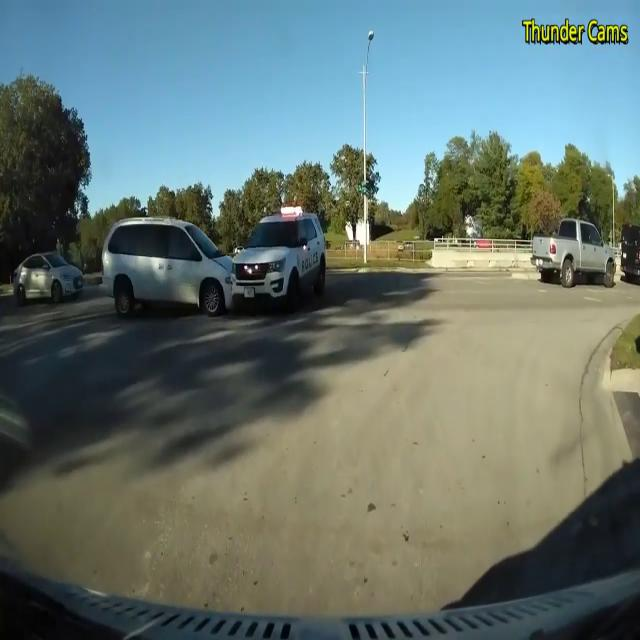accident: (117, 207, 336, 330)
